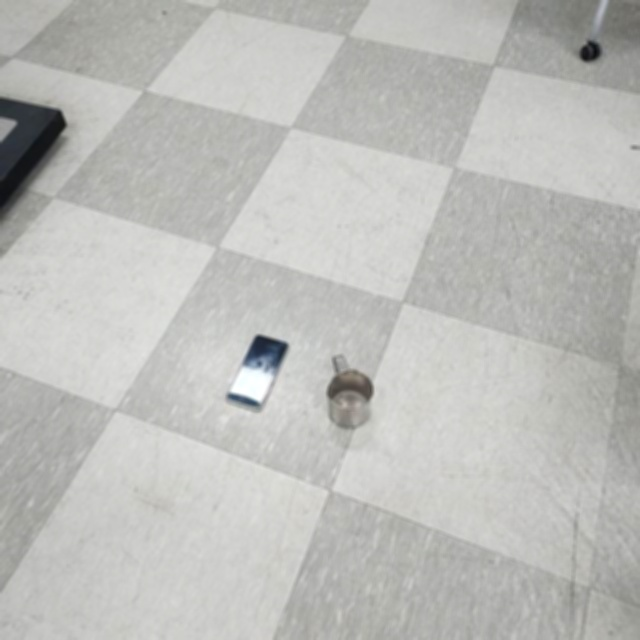cup: (326, 352, 374, 431)
phone: (226, 332, 290, 412)
